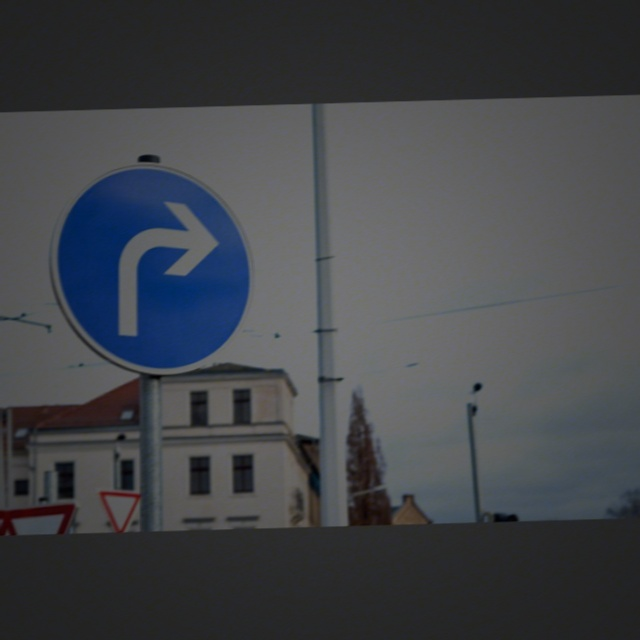Compulsory_Turn_Right_Ahead: (51, 159, 250, 379)
